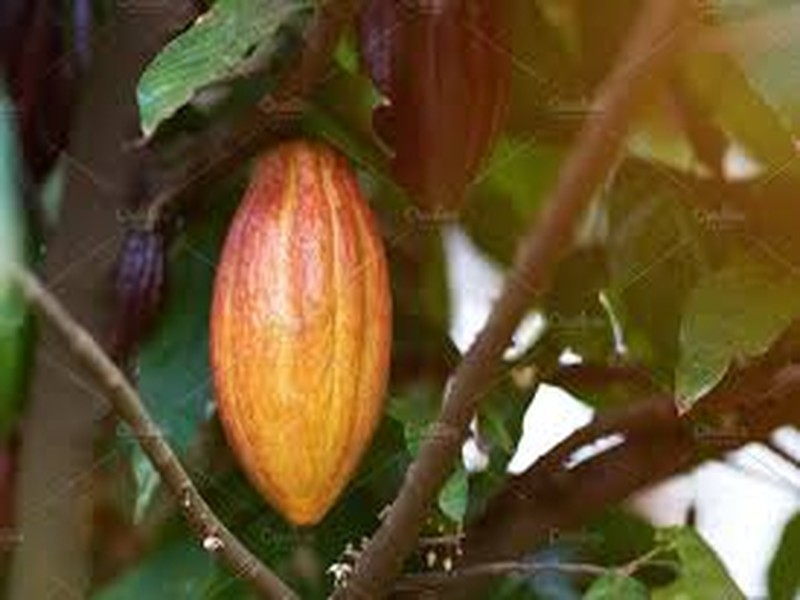Cacaopod: (211, 140, 392, 528)
